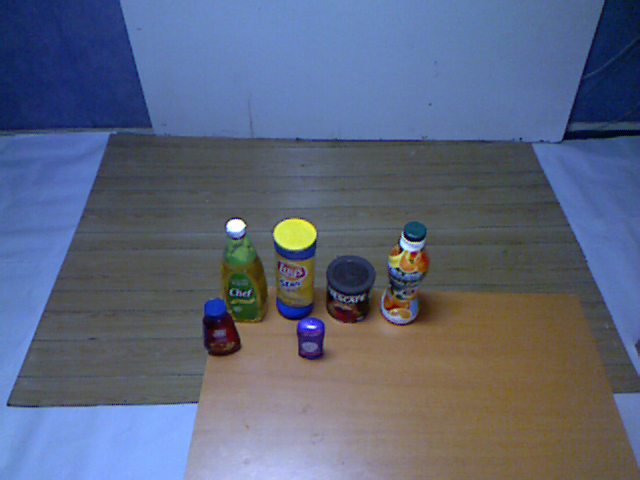aceite: (213, 214, 273, 329)
cafe: (322, 251, 380, 325)
desodorante: (291, 314, 330, 369)
ketchup: (198, 295, 245, 363)
papas: (267, 211, 322, 325)
yogurt: (376, 219, 433, 330)
